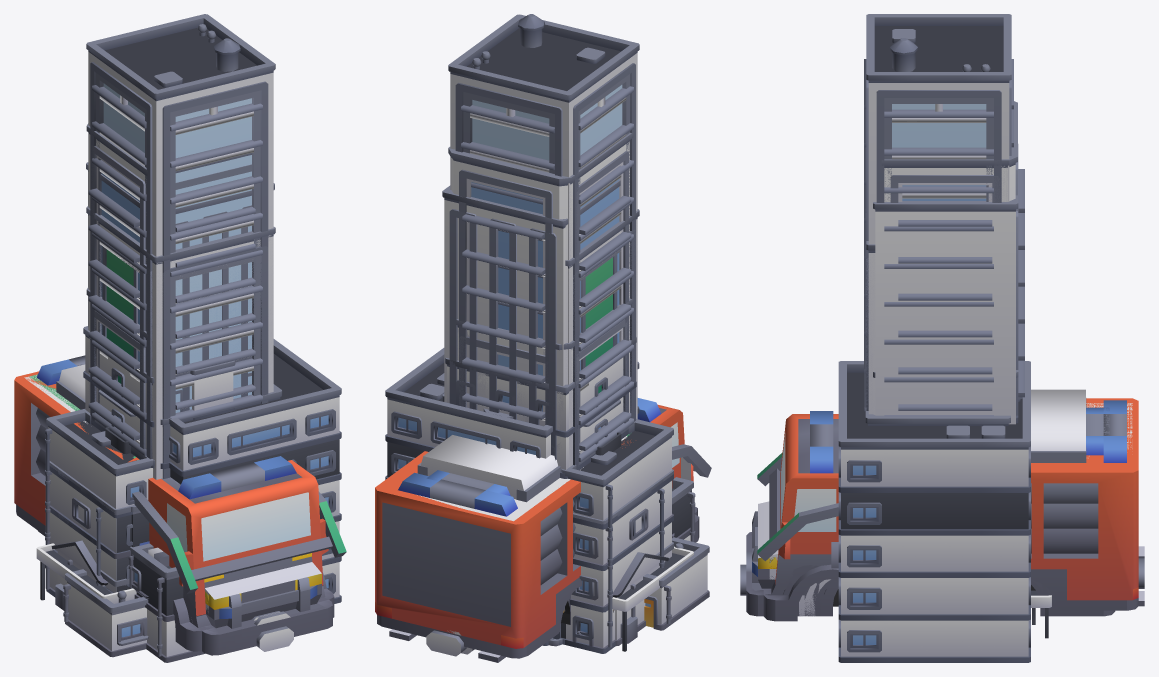
Rendered from city.glb.
3 views of the same model, side by side, from view 1: azimuth 30°, elevation 25°; view 2: azimuth 150°, elevation 25°; view 3: azimuth 270°, elevation 25° (orthographic). The views are drawn at different scales.
Parts seen in each view (by area): view 1: commercial_building-skyscraper-d, cars_firetruck, commercial_building-skyscraper-c, commercial_building-n, commercial_building-skyscraper-b, cars_garbage-truck, commercial_building-j, commercial_building-skyscraper-e, industrial_building-h, industrial_building-o, commercial_building-skyscraper-a, commercial_building-m (+7 smaller); view 2: cars_firetruck, commercial_building-skyscraper-d, commercial_building-skyscraper-b, commercial_building-skyscraper-e, commercial_building-j, commercial_building-n, cars_ambulance, commercial_building-m, commercial_building-skyscraper-a, commercial_building-skyscraper-c, industrial_building-h, commercial_building-k (+4 smaller); view 3: commercial_building-n, cars_firetruck, commercial_building-skyscraper-d, commercial_building-skyscraper-e, commercial_building-skyscraper-b, cars_garbage-truck, cars_ambulance, commercial_building-skyscraper-c, commercial_building-skyscraper-a, commercial_building-l, cars_sedan.
Part boxes in pixels (x1,y1,x2,y2): commercial_building-skyscraper-d: (86,14,275,478); cars_firetruck: (14,355,334,651); commercial_building-skyscraper-c: (86,206,275,479); commercial_building-n: (36,339,341,603); commercial_building-skyscraper-b: (86,123,255,446); cars_garbage-truck: (132,456,346,655); commercial_building-j: (45,409,153,597); commercial_building-skyscraper-e: (86,162,274,416); industrial_building-h: (63,569,148,657); industrial_building-o: (129,546,205,662); commercial_building-skyscraper-a: (86,287,255,448); commercial_building-m: (83,326,251,468); cars_firetruck: (375,398,699,658); commercial_building-skyscraper-d: (448,14,639,467); commercial_building-skyscraper-b: (448,132,633,469); commercial_building-skyscraper-e: (442,180,620,639); commercial_building-j: (551,419,673,653); commercial_building-n: (385,348,693,651); cars_ambulance: (417,435,626,652); commercial_building-m: (445,337,636,644); commercial_building-skyscraper-a: (456,298,633,639); commercial_building-skyscraper-c: (565,209,639,466); industrial_building-h: (643,533,709,630); commercial_building-k: (613,477,664,612); commercial_building-n: (838,361,1051,662); cars_firetruck: (746,398,1144,621); commercial_building-skyscraper-d: (864,14,1013,416); commercial_building-skyscraper-e: (873,144,1018,424); commercial_building-skyscraper-b: (865,101,1024,406); cars_garbage-truck: (740,452,1144,616); cars_ambulance: (769,389,1132,595); commercial_building-skyscraper-c: (864,241,993,416); commercial_building-skyscraper-a: (865,323,1024,410); commercial_building-l: (865,397,1022,425); cars_sedan: (816,580,1080,616).
Size of the model in its own units: 2.4 by 5.47 by 3.45.
Materials: 5 (5 with a texture image).
